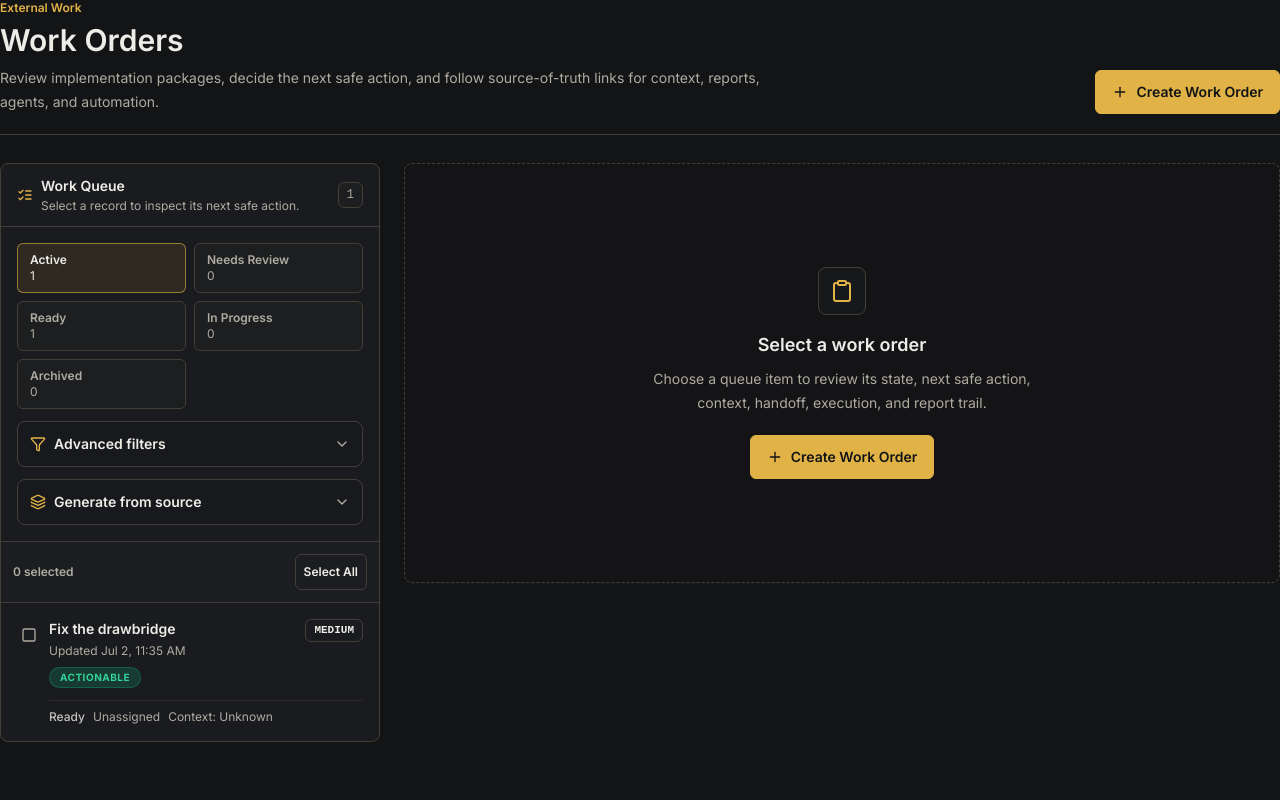
Test: WorkOrdersPage — Project Context (M17E-2) › renders a stale context warning when the binding is STALE
Click the heading "Fix the drawbridge". click: (117, 629)
box: left=49, top=619, right=186, bottom=639
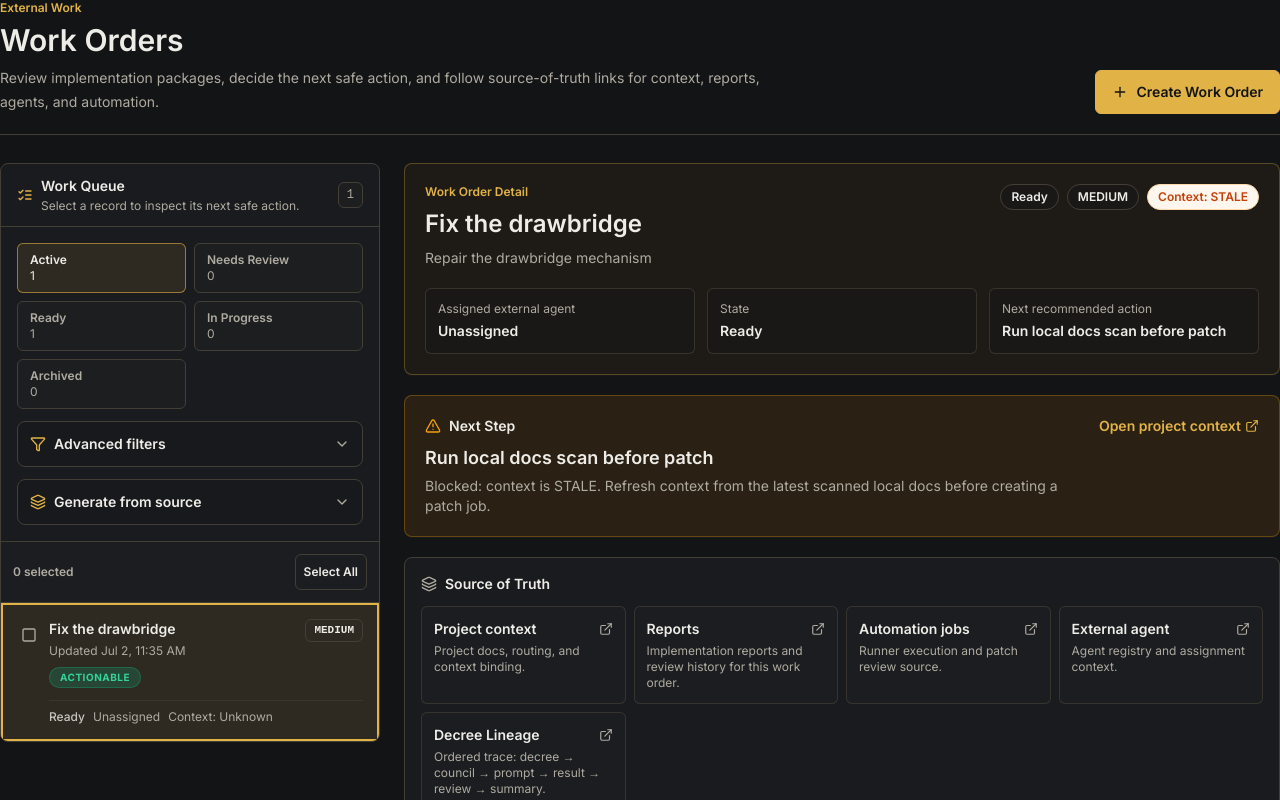
Expected: the text "Context: STALE" is shown, left=1147, top=184, right=1259, bottom=210
Expected: the text "Blocked: context is STALE" is shown, left=425, top=477, right=1058, bottom=514
